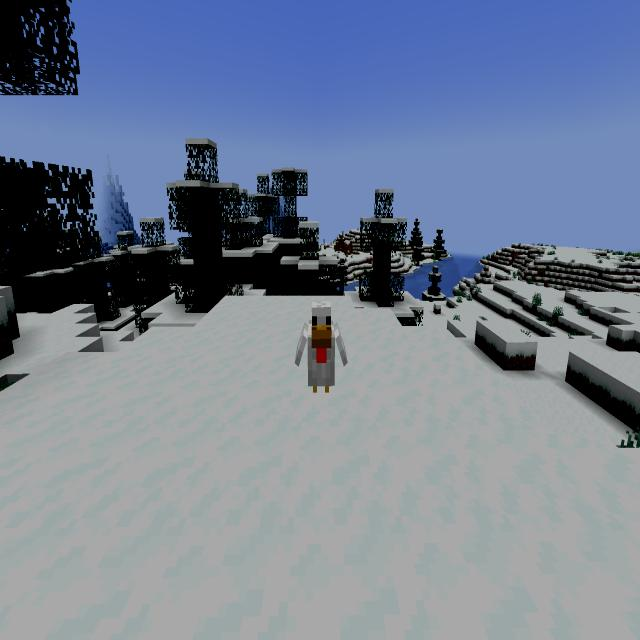chicken: (283, 294, 357, 421)
